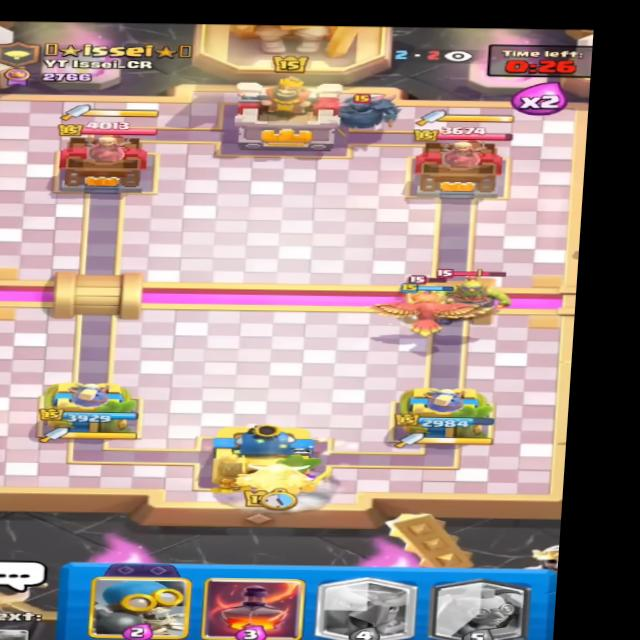goblin-demolisher: (426, 265, 522, 314)
pekka: (315, 82, 408, 137)
